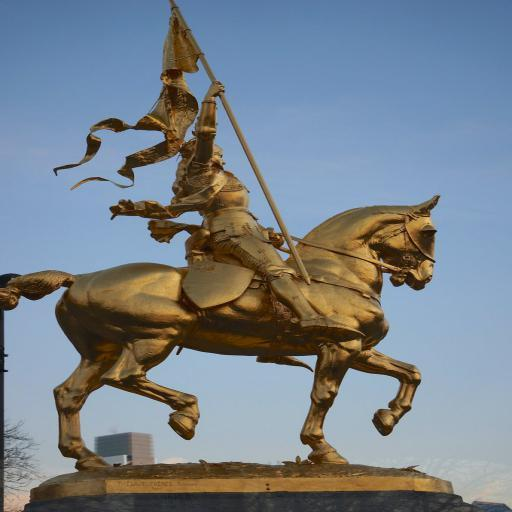horse: (0, 194, 444, 473)
